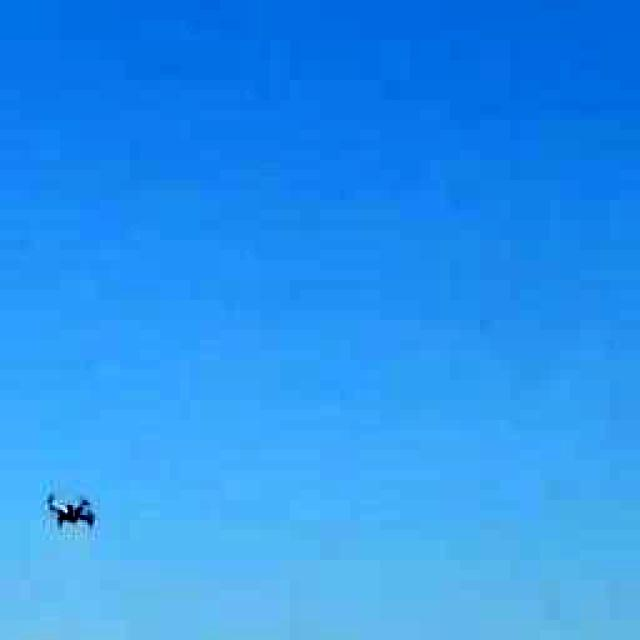bird: (15, 474, 125, 546)
